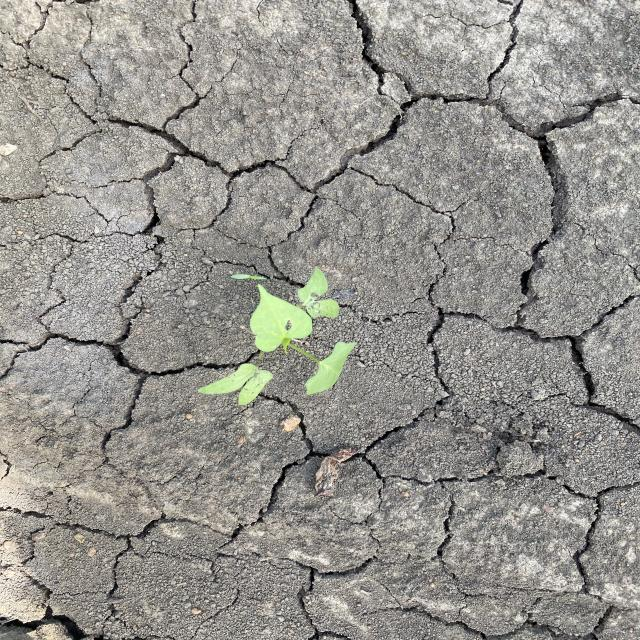MorningGlory: (196, 265, 360, 407)
